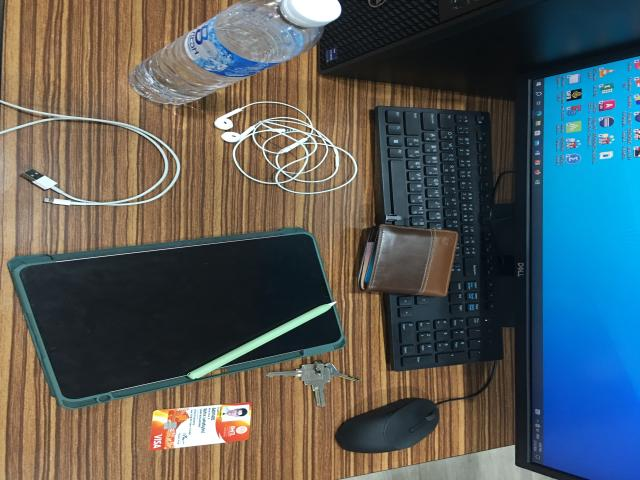Keys: (263, 358, 351, 409)
Mouse: (335, 398, 440, 455)
Wallet: (362, 223, 459, 298)
bottle: (131, 0, 342, 106)
wire: (20, 126, 181, 208), (214, 102, 353, 193)
